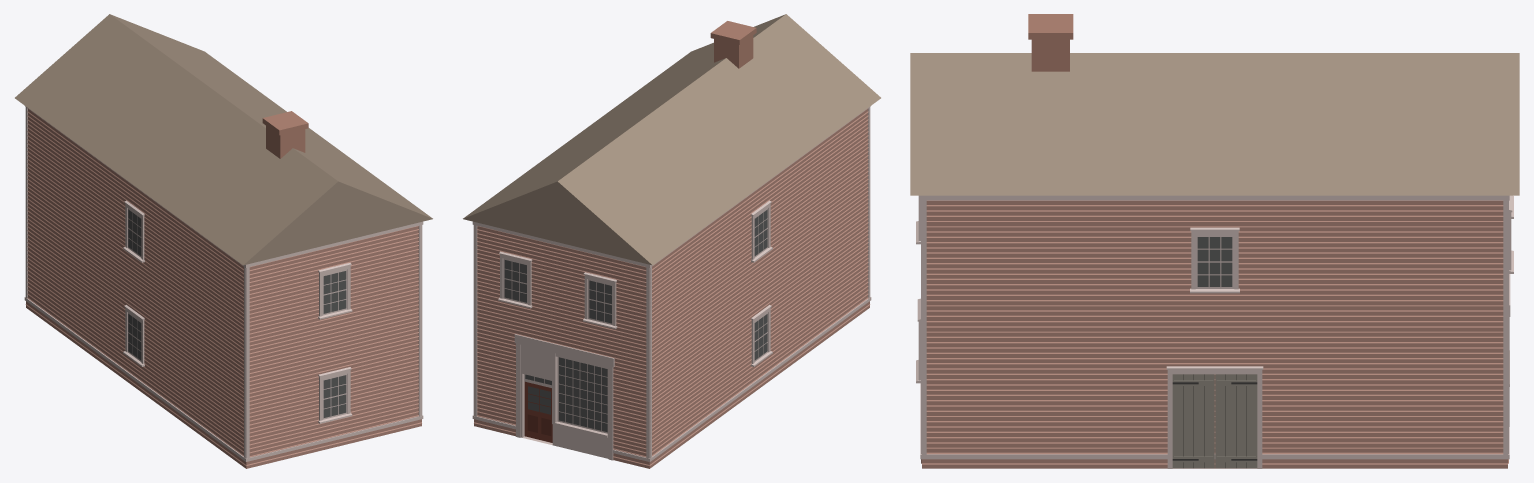
Rendered from recon_1835_core_c3_029__inferred_1835.glb.
3 renders of one model, left to right at view 1: azimuth 30°, elevation 25°; view 2: azimuth 150°, elevation 25°; view 3: azimuth 270°, elevation 25°, orthographic. The views are drawn at different scales.
Parts seen in each view (by area): view 1: recon_1835_core_c3_029__inferred_1835; view 2: recon_1835_core_c3_029__inferred_1835; view 3: recon_1835_core_c3_029__inferred_1835.
Boxes of the visible parts, x1=… form: recon_1835_core_c3_029__inferred_1835: x1=15, y1=14, x2=432, y2=468; recon_1835_core_c3_029__inferred_1835: x1=463, y1=14, x2=880, y2=468; recon_1835_core_c3_029__inferred_1835: x1=910, y1=14, x2=1519, y2=468.
Size of the model in its own units: 6.4 by 9.35 by 13.31.
